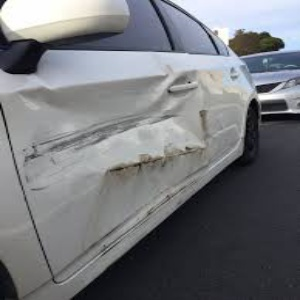door_scratch: (24, 100, 224, 174)
